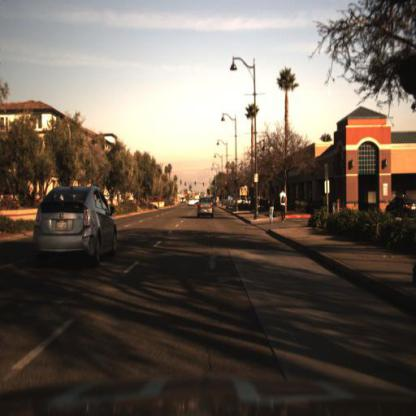car: (30, 175, 126, 279), (196, 197, 218, 222)
pedestrian: (277, 189, 291, 227), (265, 187, 277, 227)
